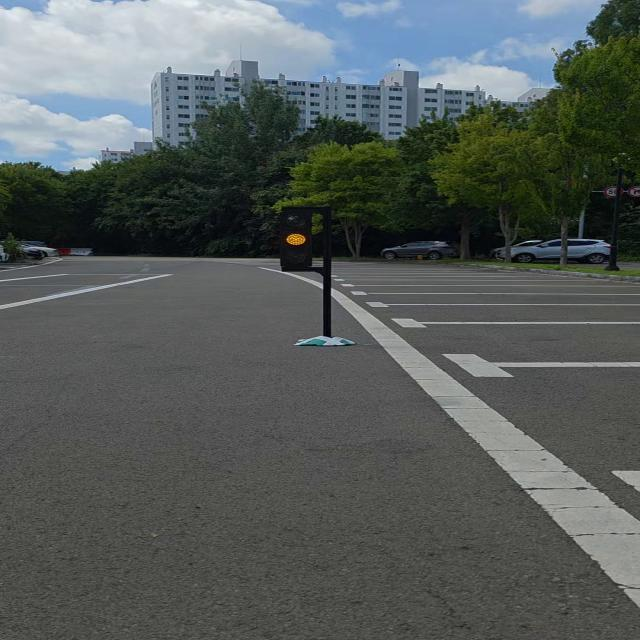yellow: (277, 204, 314, 278)
